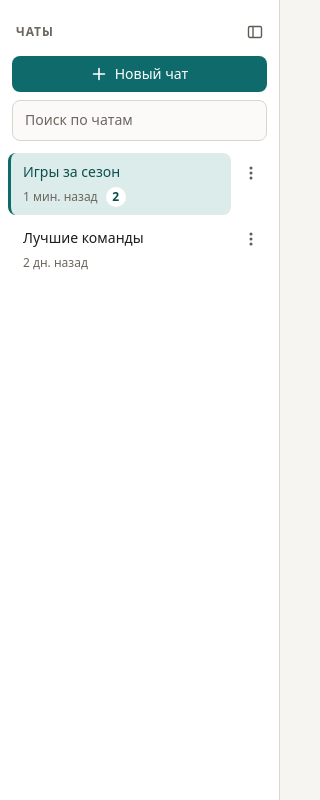
Scenario: ChatList › sends the search query only after the debounce
Type "игр" into the search field named "Поиск чатов".
click(140, 120); type("игр")  # box [12, 100, 267, 141]
Wait 300 ms
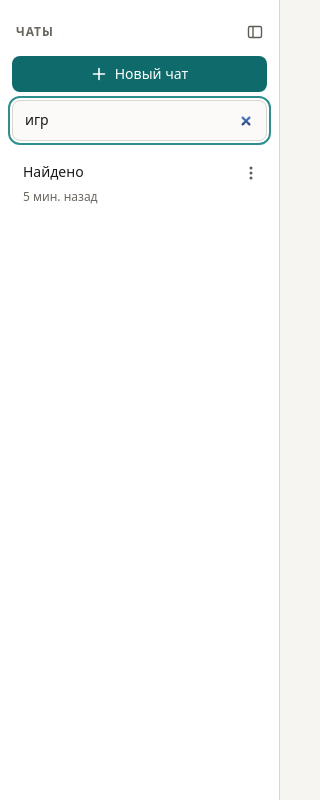
Check: the link "Найдено 5 мин. назад" is shown, box [23, 162, 98, 205]
Check: the link "Игры за сезон" is gone
